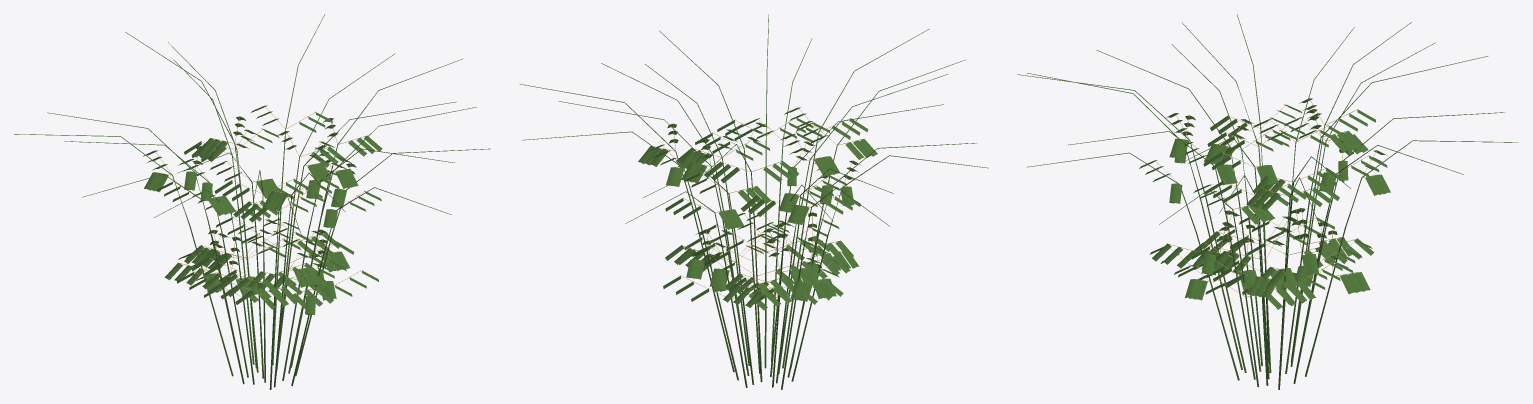
File: bamboo_tre_gai.mid.glb
3 views of the same model, side by side, from view 1: azimuth 30°, elevation 25°; view 2: azimuth 150°, elevation 25°; view 3: azimuth 270°, elevation 25° (orthographic). The views are drawn at different scales.
Visible parts, largest first — view 1: bamboo_tre_gai; view 2: bamboo_tre_gai; view 3: bamboo_tre_gai.
Boxes of the visible parts, x1,y1,x2,y2 form: bamboo_tre_gai: [14, 14, 490, 389]; bamboo_tre_gai: [519, 14, 988, 389]; bamboo_tre_gai: [1017, 14, 1518, 389].
Bounding box in the file's own units: 20.96 × 13.38 × 20.36.
